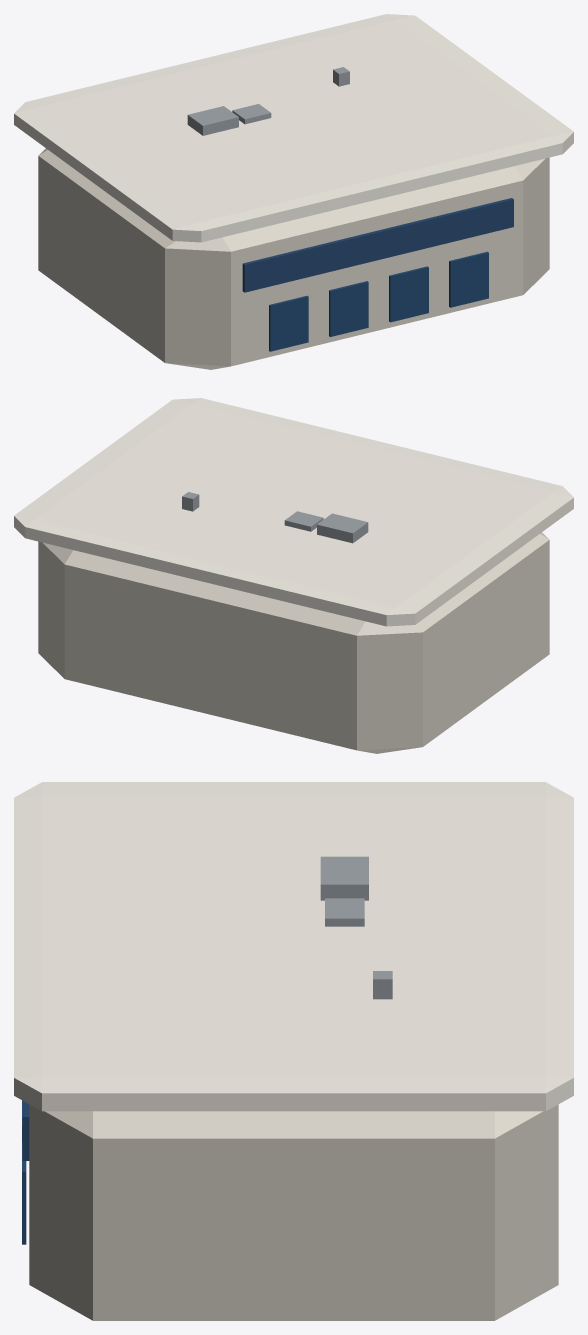
Rendered from post_office.glb.
3 renders of one model, top to bottom at view 1: azimuth 30°, elevation 25°; view 2: azimuth 150°, elevation 25°; view 3: azimuth 270°, elevation 25°, orthographic. The views are drawn at different scales.
Parts seen in each view (by area): view 1: cornice, walls, signband, win, win.002, win.003, win.001, hvac, hvac2; view 2: cornice, walls, hvac, hvac2; view 3: cornice, walls, hvac, hvac2.
Boxes of the visible parts, left/top/right/bottom form: cornice: left=14, top=14, right=573, bottom=242; walls: left=38, top=148, right=549, bottom=369; signband: left=242, top=198, right=513, bottom=292; win: left=269, top=295, right=308, bottom=351; win.002: left=389, top=266, right=428, bottom=322; win.003: left=449, top=251, right=488, bottom=307; win.001: left=329, top=281, right=368, bottom=336; hvac: left=187, top=106, right=238, bottom=135; hvac2: left=232, top=104, right=271, bottom=124; cornice: left=14, top=398, right=573, bottom=626; walls: left=38, top=532, right=549, bottom=753; hvac: left=317, top=513, right=368, bottom=543; hvac2: left=284, top=511, right=323, bottom=531; cornice: left=14, top=782, right=573, bottom=1111; walls: left=29, top=1104, right=558, bottom=1320; hvac: left=320, top=856, right=368, bottom=900; hvac2: left=325, top=898, right=364, bottom=926.
Size of the model in its own units: 16.7 by 7.1 by 12.7.
